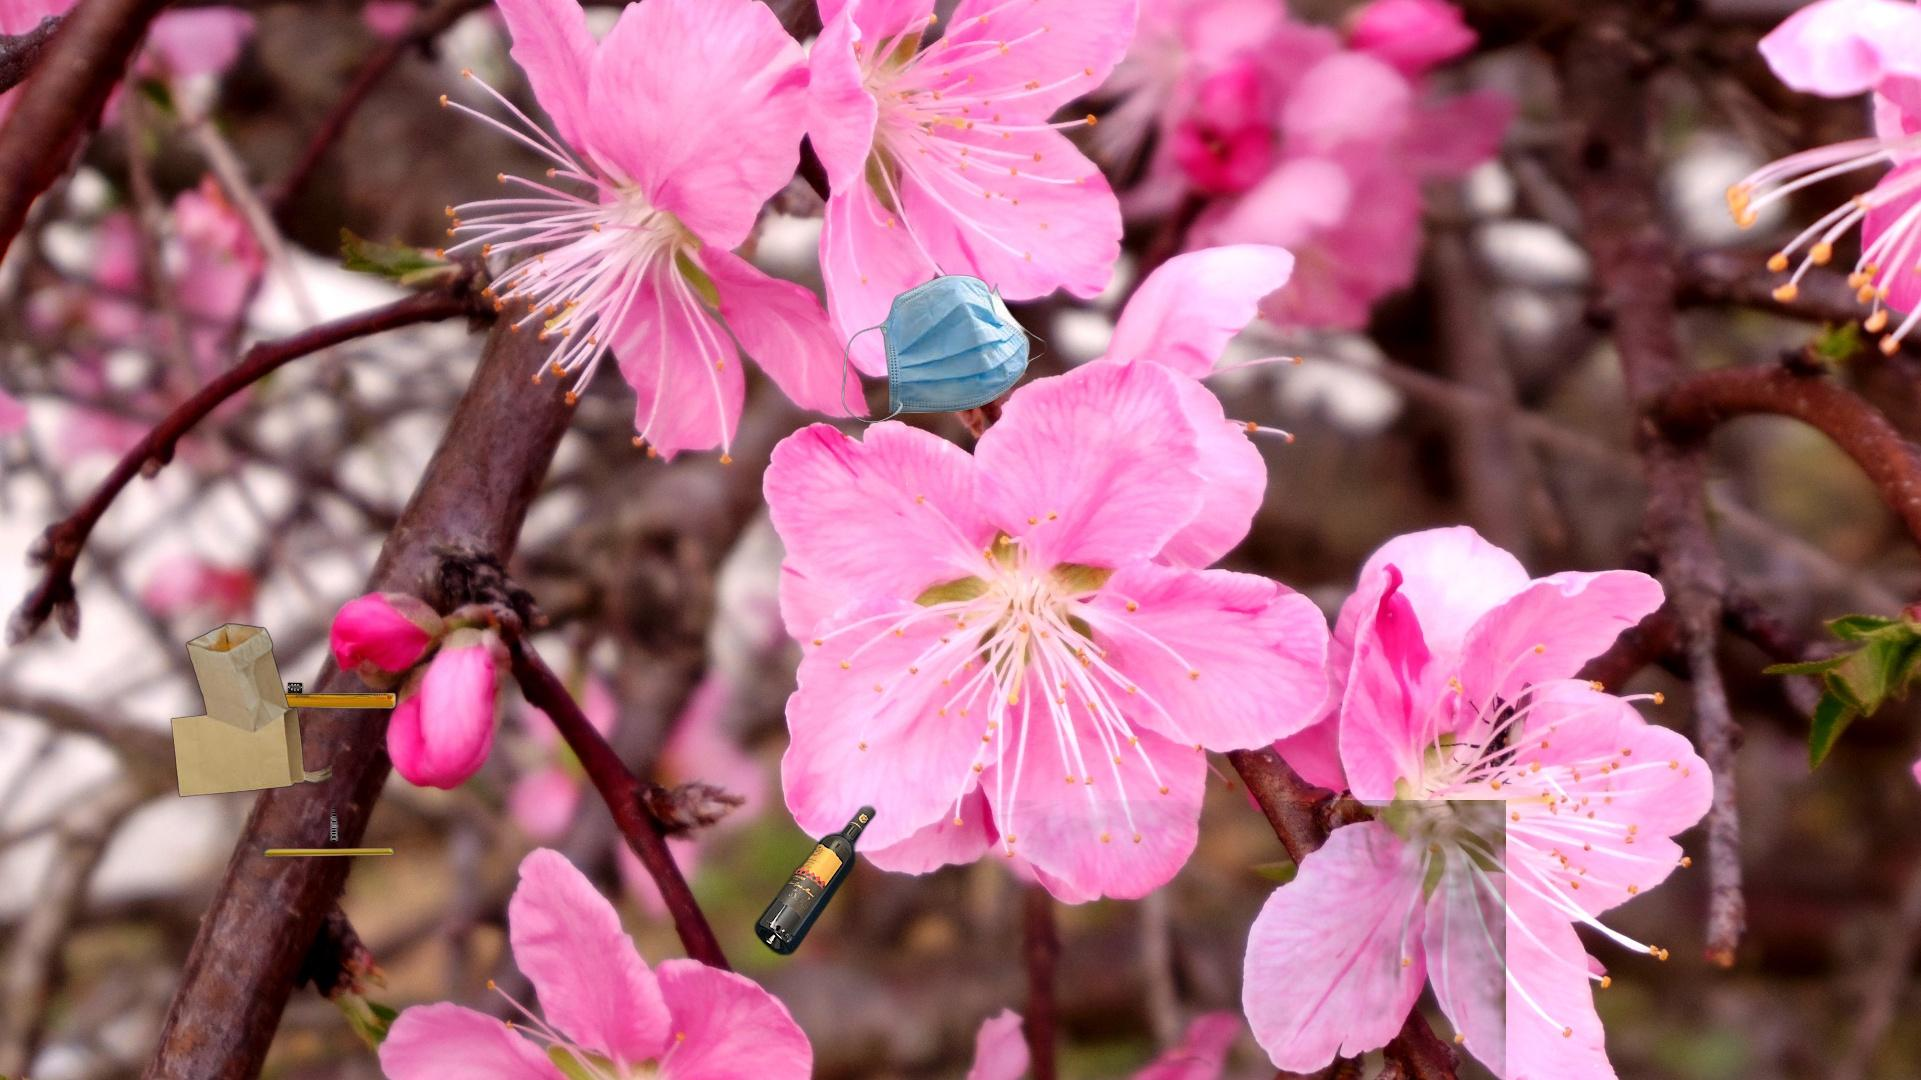battery: (201, 670, 451, 862)
glass: (751, 800, 881, 963)
paper: (993, 800, 1505, 1080)
paper-bag: (168, 621, 332, 800)
trash: (839, 272, 1052, 426)
